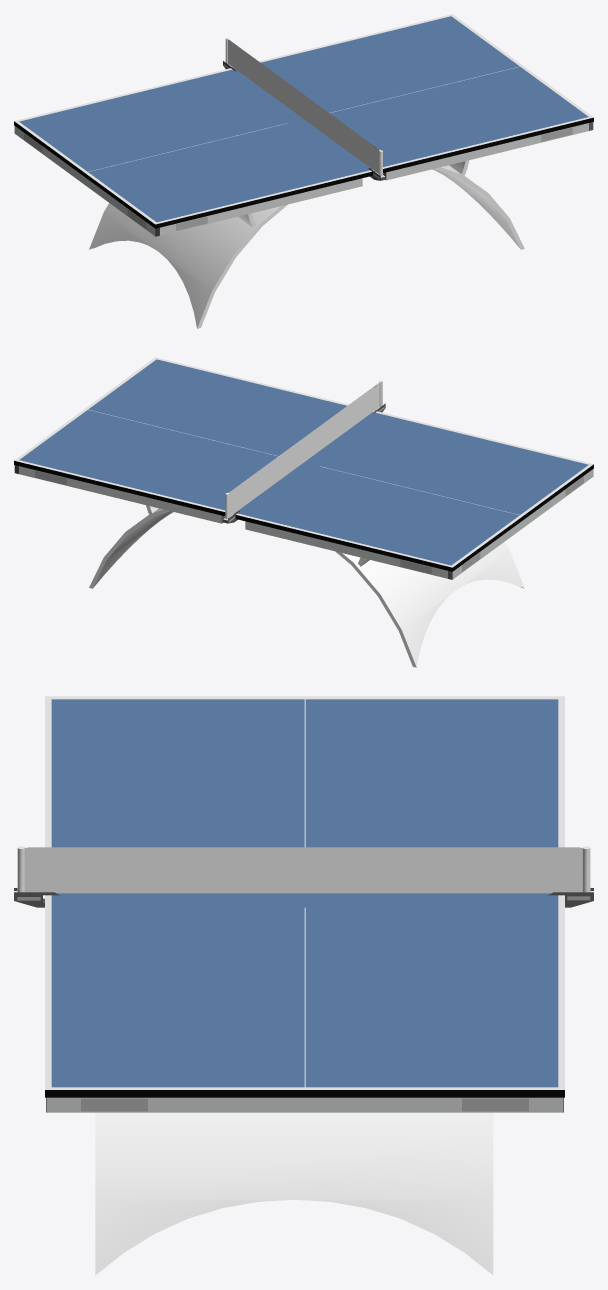
3 views of the same model, one above another, from view 1: azimuth 30°, elevation 25°; view 2: azimuth 150°, elevation 25°; view 3: azimuth 270°, elevation 25° (orthographic). The views are drawn at different scales.
Visible parts, largest first — view 1: Mesh20_table_top_0, Mesh10_table_top_0, Mesh23_FrontColor_0, Mesh23_Translucent_Glass_Safety_0, Group13, Mesh20_Black_____0, Group2, Mesh7__________waga_0, Mesh11__________waga_0, Mesh10_Black_____0, Mesh14__________waga_0; view 2: Mesh20_table_top_0, Mesh10_table_top_0, Mesh23_FrontColor_0, Mesh23_Translucent_Glass_Safety_0, Group13, Mesh20_Black_____0, Group2, Mesh17__________waga_0, Mesh1__________waga_0, Mesh10_Black_____0, Mesh14__________waga_0; view 3: Mesh10_table_top_0, Mesh20_table_top_0, Mesh23_FrontColor_0, Mesh23_Translucent_Glass_Safety_0, Mesh4__________waga_0, Group2, Group13, Mesh10_Black_____0, Mesh5_WagaBlack_0.
Boxes of the visible parts, x1,y1,x2,y2 form: Mesh20_table_top_0: (19, 69, 372, 222); Mesh10_table_top_0: (261, 16, 588, 166); Mesh23_FrontColor_0: (89, 40, 524, 328); Mesh23_Translucent_Glass_Safety_0: (229, 40, 378, 173); Group13: (14, 68, 373, 224); Mesh20_Black_____0: (14, 121, 372, 228); Group2: (259, 14, 593, 168); Mesh7__________waga_0: (386, 123, 588, 180); Mesh11__________waga_0: (160, 178, 362, 235); Mesh10_Black_____0: (383, 117, 593, 172); Mesh14__________waga_0: (15, 126, 155, 236); Mesh20_table_top_0: (235, 412, 588, 565); Mesh10_table_top_0: (19, 359, 346, 510); Mesh23_FrontColor_0: (89, 383, 524, 667); Mesh23_Translucent_Glass_Safety_0: (229, 383, 379, 516); Group13: (236, 411, 593, 567); Mesh20_Black_____0: (235, 464, 593, 571); Group2: (14, 357, 348, 511); Mesh17__________waga_0: (245, 521, 447, 578); Mesh1__________waga_0: (19, 466, 221, 523); Mesh10_Black_____0: (14, 460, 225, 516); Mesh14__________waga_0: (452, 469, 592, 579); Mesh10_table_top_0: (51, 893, 558, 1087); Mesh20_table_top_0: (51, 699, 558, 847); Mesh23_FrontColor_0: (28, 847, 579, 1275); Mesh23_Translucent_Glass_Safety_0: (27, 847, 580, 893); Mesh4__________waga_0: (46, 1097, 563, 1112); Group2: (45, 895, 564, 1089); Group13: (45, 696, 564, 847); Mesh10_Black_____0: (45, 1090, 564, 1097); Mesh5_WagaBlack_0: (81, 1098, 528, 1111).
Bounding box in the file's own units: 2740 × 911 × 1706.
